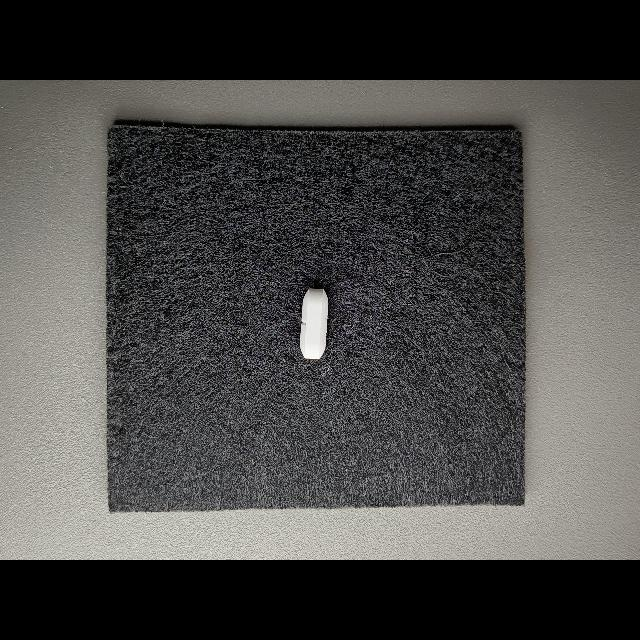Intact Pill: (300, 288, 328, 359)
